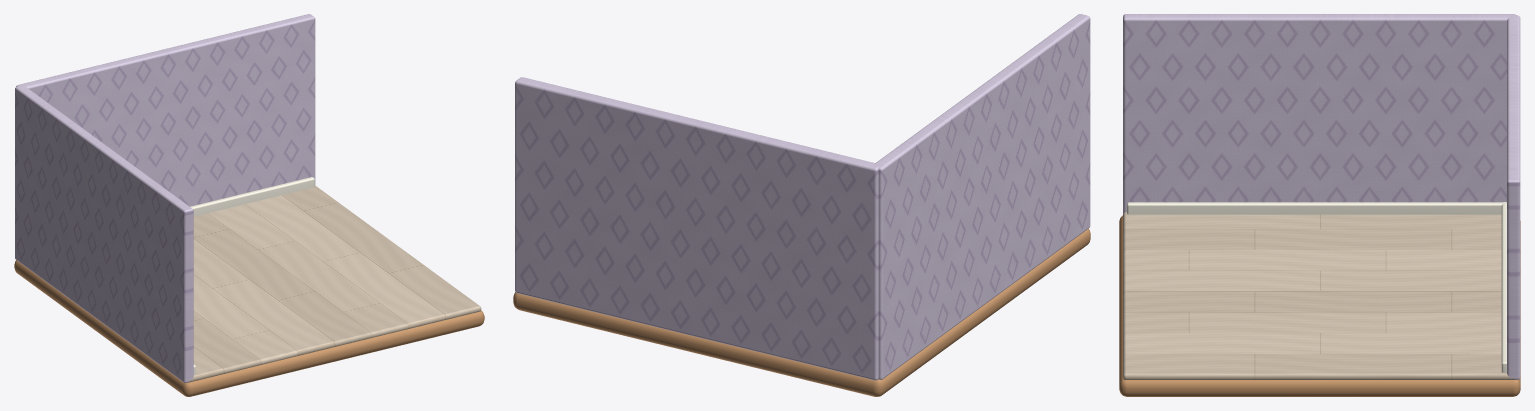
The model's file is room11.glb.
3 views of the same model, side by side, from view 1: azimuth 30°, elevation 25°; view 2: azimuth 150°, elevation 25°; view 3: azimuth 270°, elevation 25° (orthographic). The views are drawn at different scales.
Visible parts, largest first — view 1: Back wall, Cream floor, Left wall, Rounded room foundation, Back skirting; view 2: Back wall, Left wall, Rounded room foundation; view 3: Left wall, Cream floor, Rounded room foundation, Back wall, Left skirting, Back skirting.
Part boxes in pixels (x1,y1,x2,y2): Back wall: [16, 14, 315, 206]; Cream floor: [188, 185, 481, 382]; Left wall: [15, 85, 193, 382]; Rounded room foundation: [14, 260, 484, 396]; Back skirting: [190, 177, 314, 216]; Back wall: [515, 77, 879, 380]; Left wall: [874, 14, 1090, 379]; Rounded room foundation: [513, 229, 1090, 396]; Left wall: [1123, 14, 1515, 213]; Cream floor: [1123, 212, 1514, 379]; Rounded room foundation: [1119, 215, 1520, 396]; Back wall: [1507, 15, 1520, 379]; Left skirting: [1127, 202, 1506, 214]; Back skirting: [1501, 202, 1506, 372].
Size of the model in its own units: 5.1 by 3.04 by 5.1.
4 materials, 2 textured.
